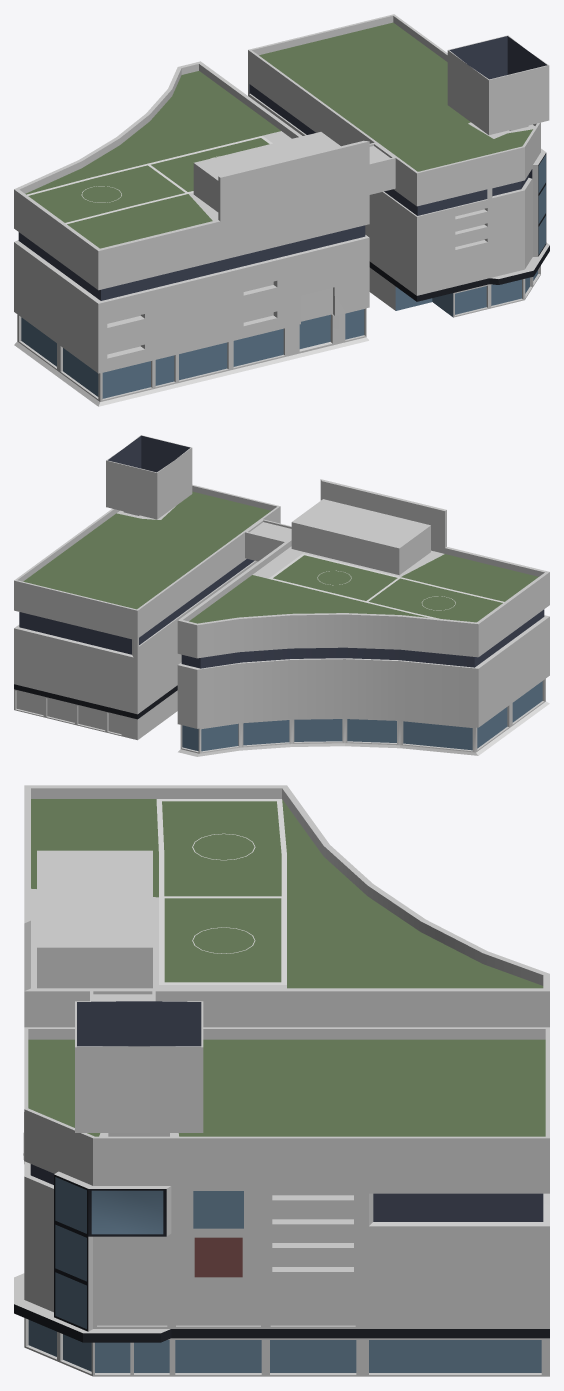
The model's file is barco.gltf.
3 renders of one model, top to bottom at view 1: azimuth 30°, elevation 25°; view 2: azimuth 150°, elevation 25°; view 3: azimuth 270°, elevation 25°, orthographic. The views are drawn at different scales.
Visible parts, largest first — view 1: parco_building_0; view 2: parco_building_0; view 3: parco_building_0.
Part boxes in pixels (<box>): parco_building_0: <box>14,14,549,406</box>; parco_building_0: <box>14,435,549,756</box>; parco_building_0: <box>14,785,549,1376</box>.
Size of the model in its own units: 13.87 by 6.07 by 8.79.
